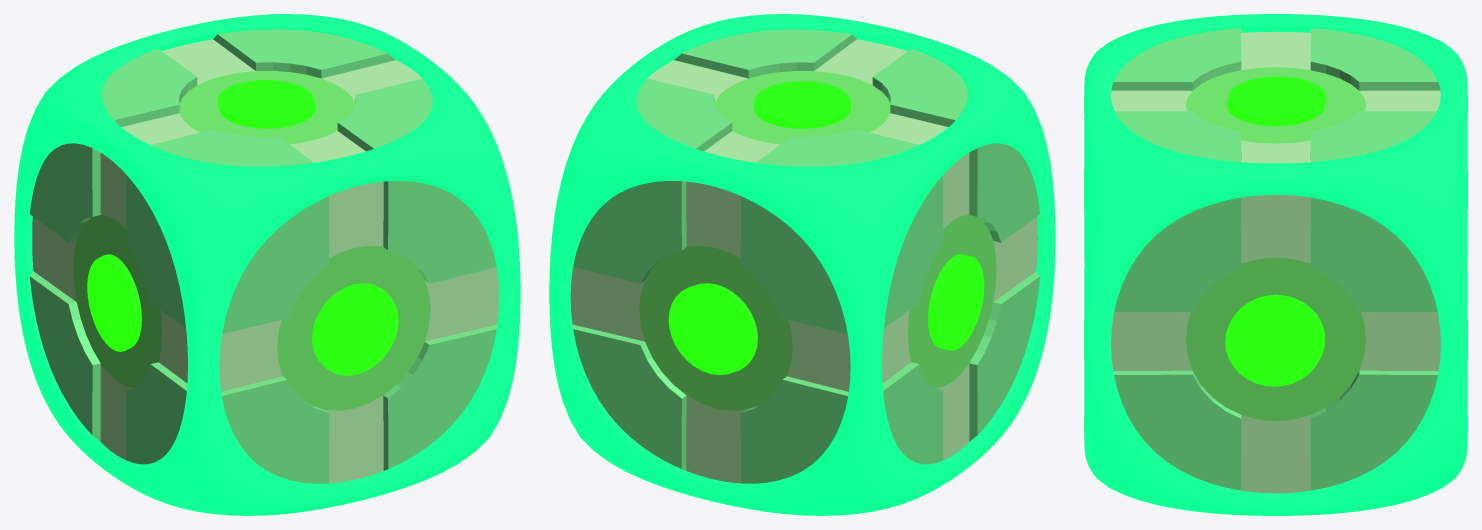
3 renders of one model, left to right at view 1: azimuth 30°, elevation 25°; view 2: azimuth 150°, elevation 25°; view 3: azimuth 270°, elevation 25°, orthographic.
Visible parts, largest first — view 1: Cube.001, 円, 円.002, 円.001, 円.003; view 2: Cube.001, 円, 円.002, 円.001, 円.003; view 3: Cube.001, 円, 円.002, 円.001, 円.003.
Boxes of the visible parts, x1,y1,x2,y2 form: Cube.001: (14, 14, 520, 515); 円: (30, 29, 497, 483); 円.002: (32, 39, 499, 483); 円.001: (73, 71, 430, 410); 円.003: (87, 80, 398, 375); Cube.001: (549, 14, 1055, 515); 円: (572, 29, 1039, 483); 円.002: (570, 39, 1037, 483); 円.001: (639, 71, 996, 410); 円.003: (668, 81, 984, 374); Cube.001: (1084, 14, 1467, 515); 円: (1111, 28, 1440, 490); 円.002: (1111, 31, 1440, 493); 円.001: (1185, 67, 1366, 421); 円.003: (1225, 76, 1326, 386).
Bounding box in the file's own units: 203 × 203 × 203.
